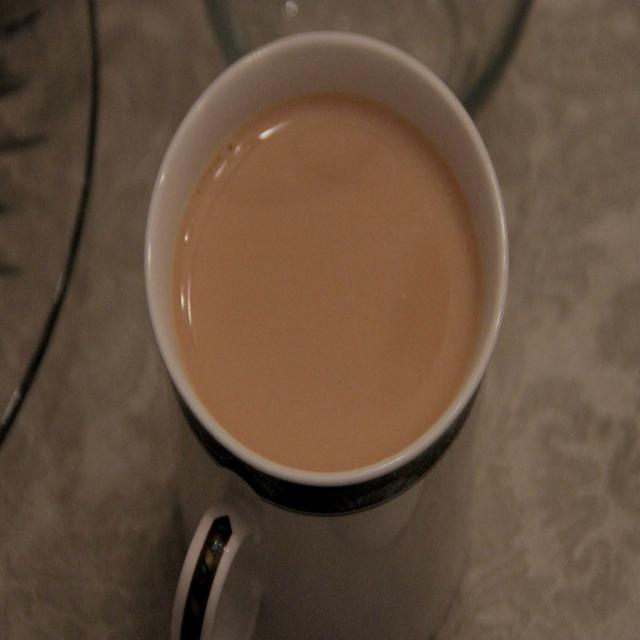Tea: (174, 96, 482, 470)
